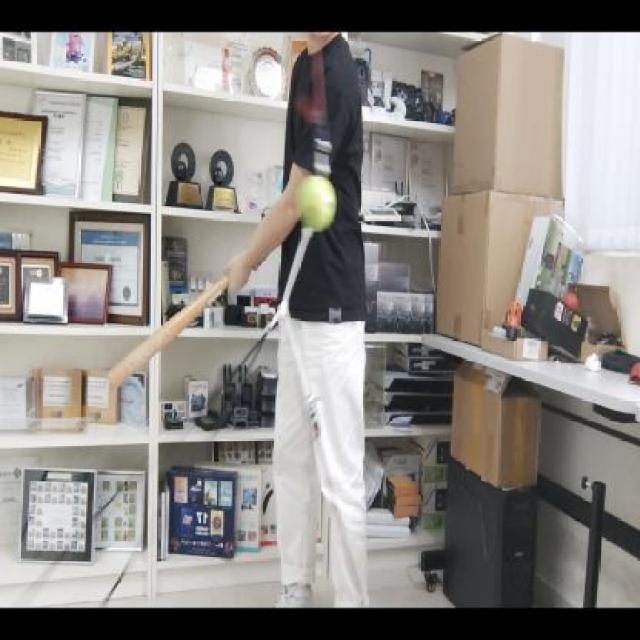baseball: (294, 169, 340, 234)
